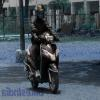motorcycles: (24, 34, 62, 94)
